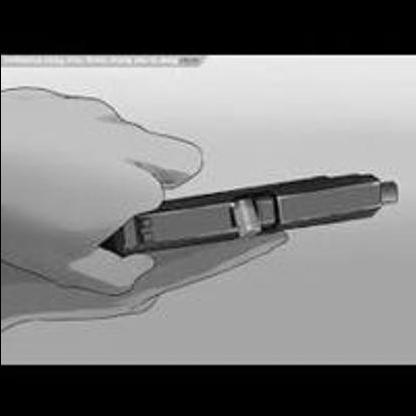weapon: (95, 154, 404, 267)
